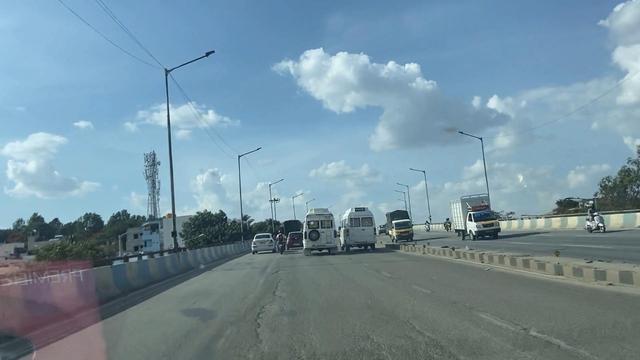HMV: (301, 210, 341, 254), (345, 208, 381, 253)
LMV: (257, 229, 274, 253), (277, 231, 284, 250)
RoadDamages: (359, 298, 503, 360), (236, 263, 318, 360), (498, 301, 590, 360)
